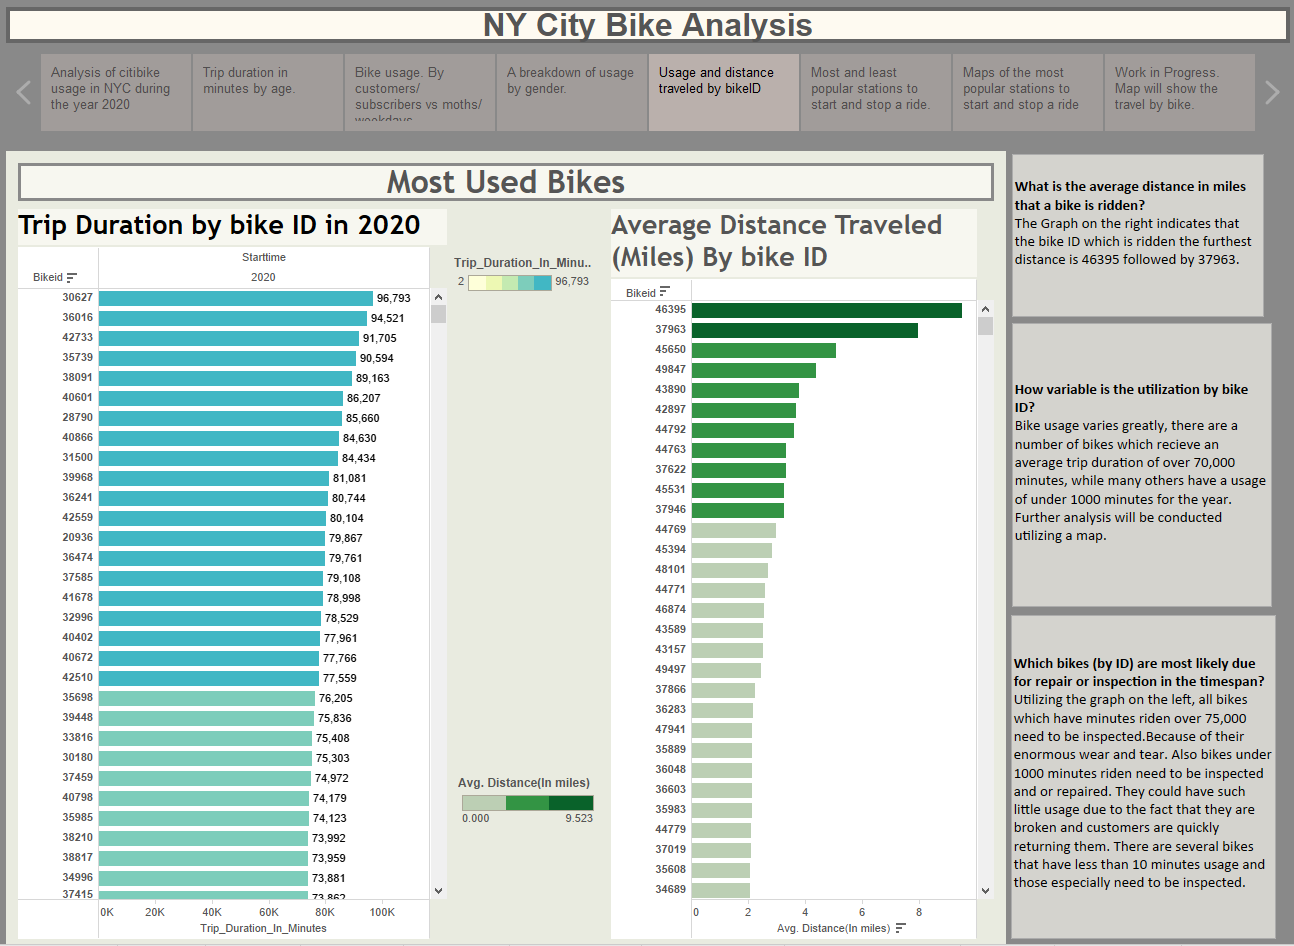

Layout of this report page (visuals, bound fields, positions):
{"tool":"tableau","page":{"name":"Bike Usage Dashboard","canvas":[1000,800],"ordinal":0},"visuals":[{"type":"title","box":[8,8,984,46]},{"type":"worksheet","title":"1.2 Trip Duration by Bike ID","mark":"Bar","rows":["bikeid"],"cols":["starttime","Calculation_1181913467460657153"],"box":[8,54,437,738]},{"type":"worksheet","title":"1.6 AVG Distance by bikeID","mark":"Automatic","rows":["bikeid"],"cols":["Calculation_1181913467475386375"],"box":[601,54,391,738]},{"type":"legend","title":"1.2 Trip Duration by Bike ID","param":"[federated.1d6i2l30397zuh1gqeg1112rf6o0].[usr:Calculation_1181913467460657153:qk","box":[448,105,140,76]},{"type":"legend","title":"1.6 AVG Distance by bikeID","param":"[federated.1d6i2l30397zuh1gqeg1112rf6o0].[avg:Calculation_1181913467475386375:qk","box":[452,625,140,76]}]}

Visuals, with their boxes on the page's 1000x800 design canvas (x1, y1, x2, y2). These are canvas units, not pixel positions in the 1294x946 screenshot, which may show the page scaled, cropped or inside an application window:
title: x1=8 y1=8 x2=992 y2=54
"1.2 Trip Duration by Bike ID" worksheet (Bar marks): x1=8 y1=54 x2=445 y2=792
"1.6 AVG Distance by bikeID" worksheet: x1=601 y1=54 x2=992 y2=792
"1.2 Trip Duration by Bike ID" legend: x1=448 y1=105 x2=588 y2=181
"1.6 AVG Distance by bikeID" legend: x1=452 y1=625 x2=592 y2=701
